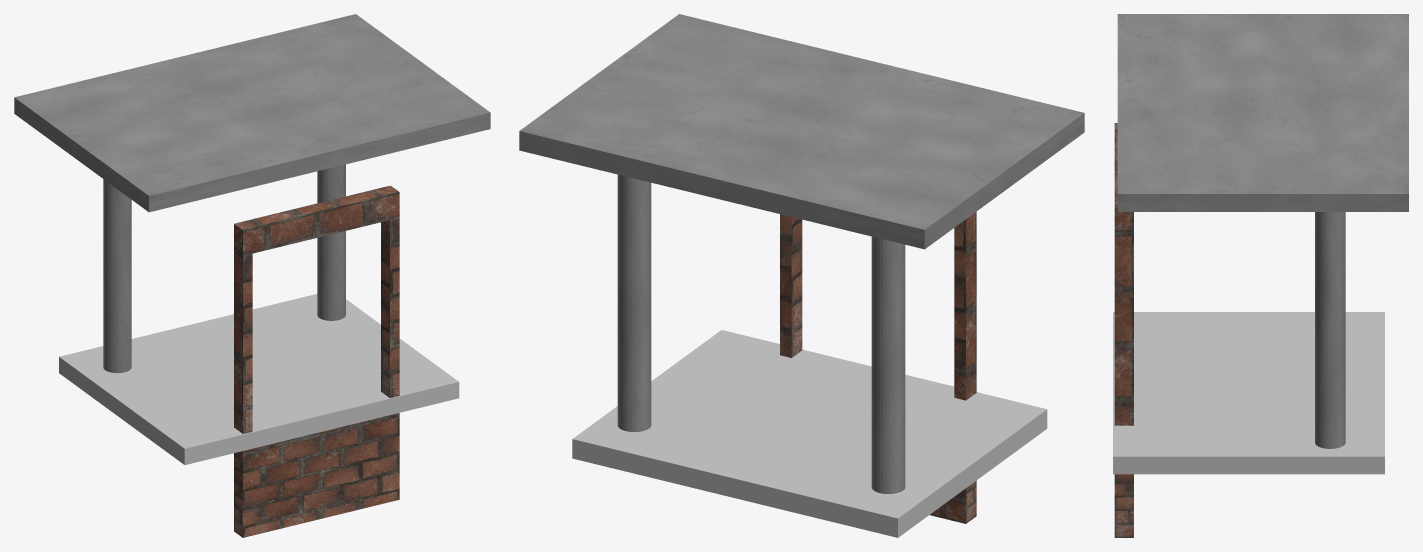
The model's file is wallForOuterDoor.fbx.
3 renders of one model, left to right at view 1: azimuth 30°, elevation 25°; view 2: azimuth 150°, elevation 25°; view 3: azimuth 270°, elevation 25°, orthographic. The views are drawn at different scales.
Visible parts, largest first — view 1: Cube.001, Cube.002, Cube.003, Cylinder.001, Cylinder; view 2: Cube.001, Cube.002, Cylinder.001, Cylinder, Cube.003; view 3: Cube.001, Cube.002, Cylinder, Cube.003.
Part boxes in pixels (x1,y1,x2,y2): Cube.001: (14,14,490,212); Cube.002: (59,294,459,464); Cube.003: (234,185,399,537); Cylinder.001: (103,179,131,373); Cylinder: (317,164,345,320); Cube.001: (519,14,1084,249); Cube.002: (572,330,1047,537); Cylinder.001: (871,236,905,493); Cylinder: (617,174,651,431); Cube.003: (780,212,976,523); Cube.001: (1117,14,1408,211); Cube.002: (1113,312,1384,474); Cylinder: (1315,212,1345,448); Cube.003: (1114,123,1133,537).
Bounding box in the file's own units: 436 × 443 × 302.
